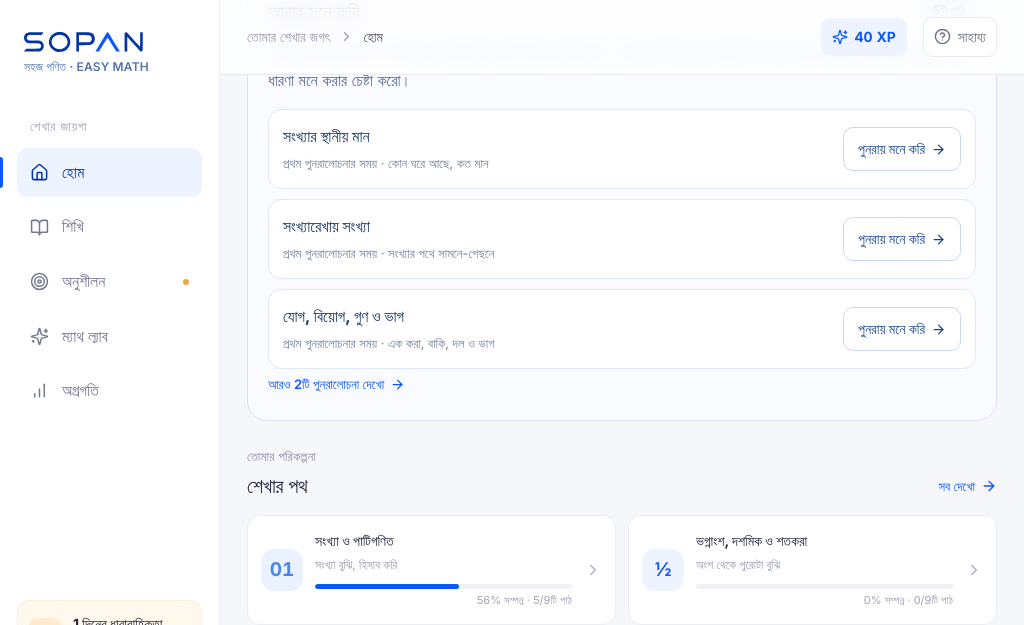
Easy Math learning flow › lets learners expand a due-review queue beyond the first three lessons
(page scrolled)
Expected: the number of elements with class "spaced-review-row" is 3, [268,109,976,189]; [268,199,976,279]; [268,289,976,369]
Click the button "আরও 2টি পুনরালোচনা দেখো": (337, 385) [268,369,405,400]
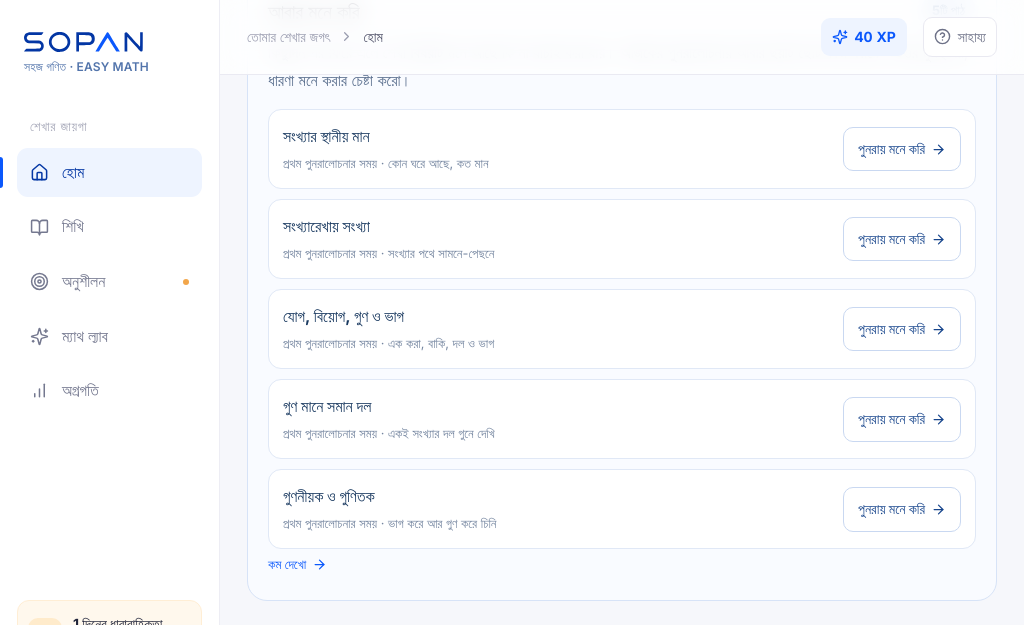
Expected: the number of elements with class "spaced-review-row" is 5, [268,109,976,189]; [268,199,976,279]; [268,289,976,369]; [268,379,976,459]; [268,469,976,550]
Click the button "কম দেখো": (298, 565) [268,549,327,580]
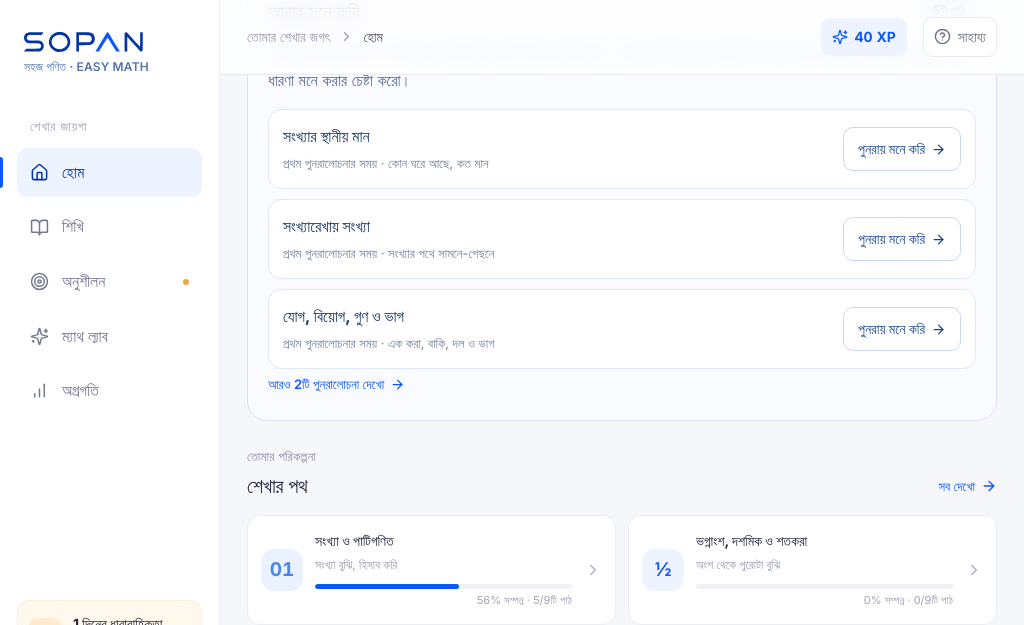
Expected: the number of elements with class "spaced-review-row" is 3, [268,109,976,189]; [268,199,976,279]; [268,289,976,369]
